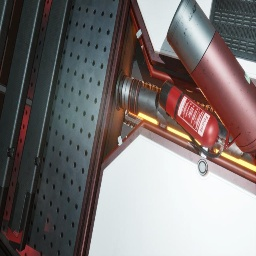FireExtinguisher ]: (159, 80, 241, 158)
NitrogenTank ,: (166, 0, 256, 166)
